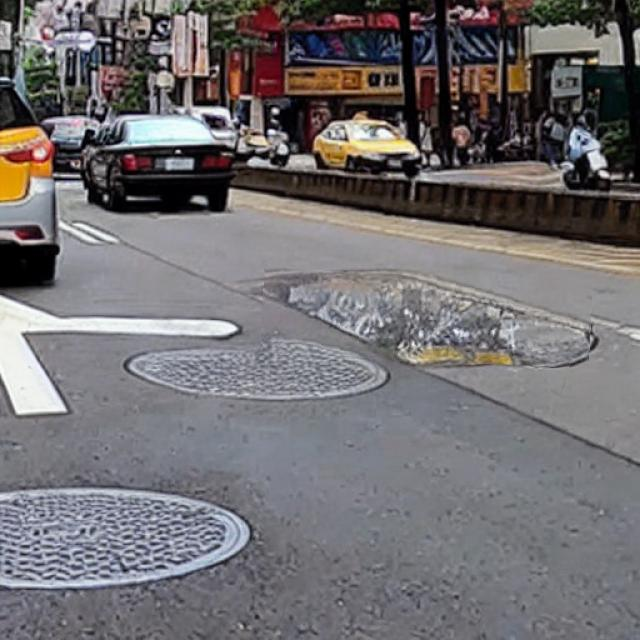puddle: (262, 273, 593, 366)
